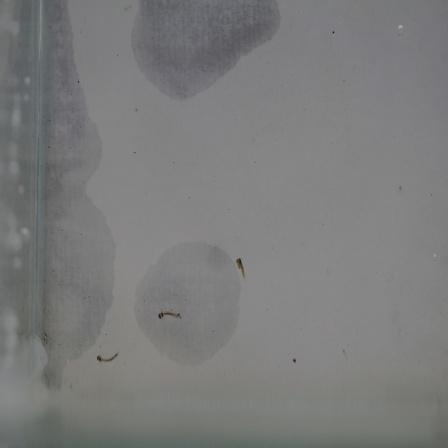Jentik-Nyamuk: (156, 303, 189, 329), (93, 347, 125, 368), (233, 253, 249, 285)
